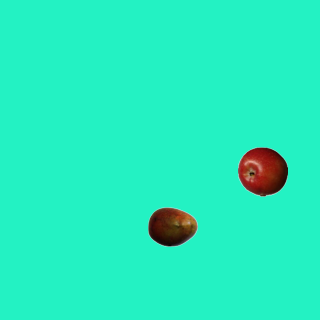Apple Braeburn: (237, 146, 287, 196)
Mango Red: (147, 201, 197, 251)
